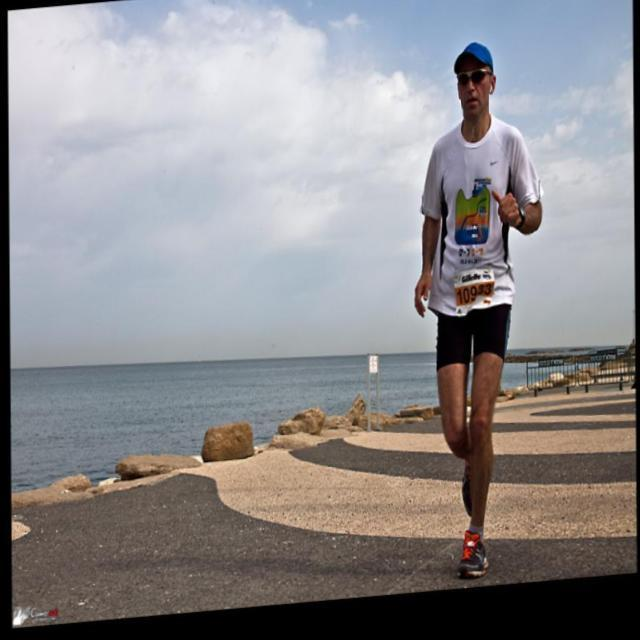dorsal: (446, 270, 501, 334)
